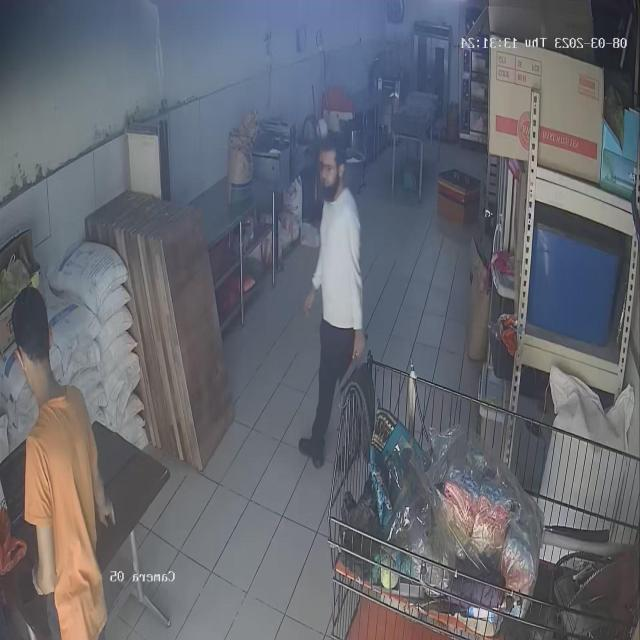Knife: (342, 347, 372, 389)
